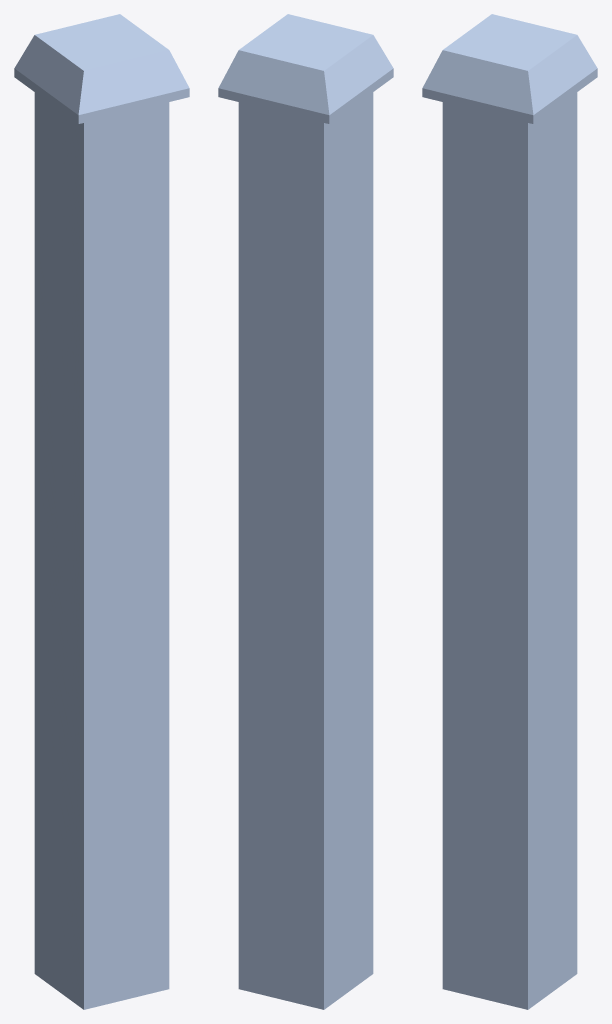
The model's file is Barn Fence Post End or Corner.glb.
3 views of the same model, side by side, from view 1: azimuth 30°, elevation 25°; view 2: azimuth 150°, elevation 25°; view 3: azimuth 330°, elevation 25° (orthographic).
Visible parts, largest first — view 1: Fence Post end or corner; view 2: Fence Post end or corner; view 3: Fence Post end or corner.
Boxes of the visible parts, left/top/right/bottom form: Fence Post end or corner: left=14, top=14, right=189, bottom=1009; Fence Post end or corner: left=218, top=14, right=393, bottom=1009; Fence Post end or corner: left=422, top=14, right=597, bottom=1009.
Bounding box in the file's own units: 0.26 × 2.1 × 0.26.
Materials: 1 (1 with a texture image).
